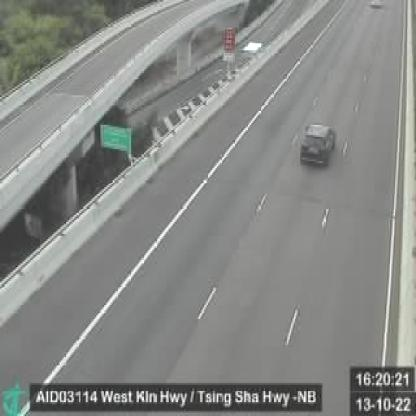Car: (297, 121, 338, 171)
